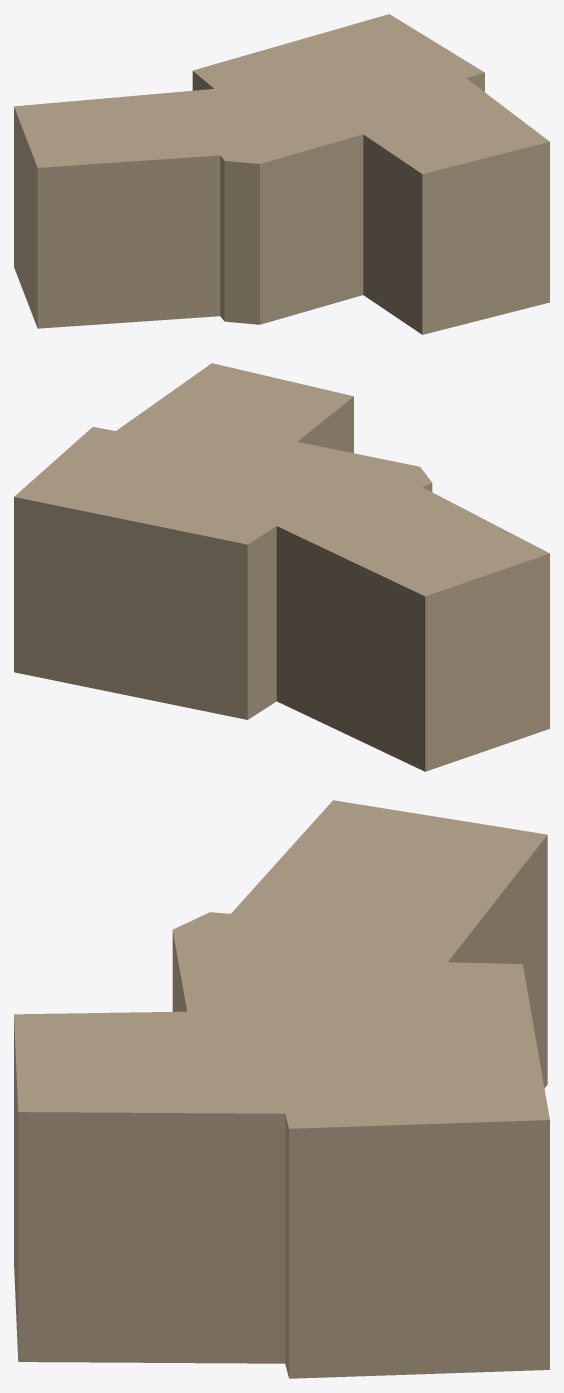
The model's file is bld_106338996.dae.
The picture shows the model from 3 angles, top to bottom: view 1: azimuth 30°, elevation 25°; view 2: azimuth 150°, elevation 25°; view 3: azimuth 270°, elevation 25°; orthographic projection. The views are drawn at different scales.
Parts seen in each view (by area): view 1: bld_106338996; view 2: bld_106338996; view 3: bld_106338996.
Part boxes in pixels (bbox=[...]): bld_106338996: bbox=[14, 14, 549, 334]; bld_106338996: bbox=[14, 363, 549, 771]; bld_106338996: bbox=[14, 800, 549, 1378].
Bounding box in the file's own units: 22.56 × 15.55 × 8.
